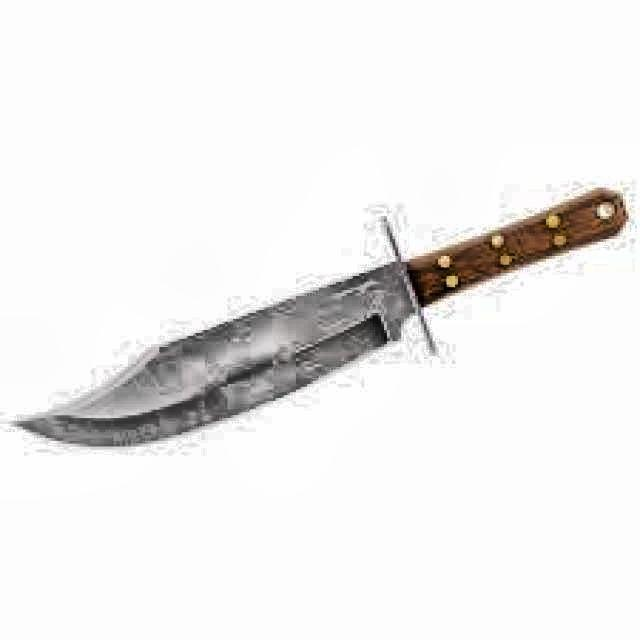knife: (6, 174, 634, 453)
